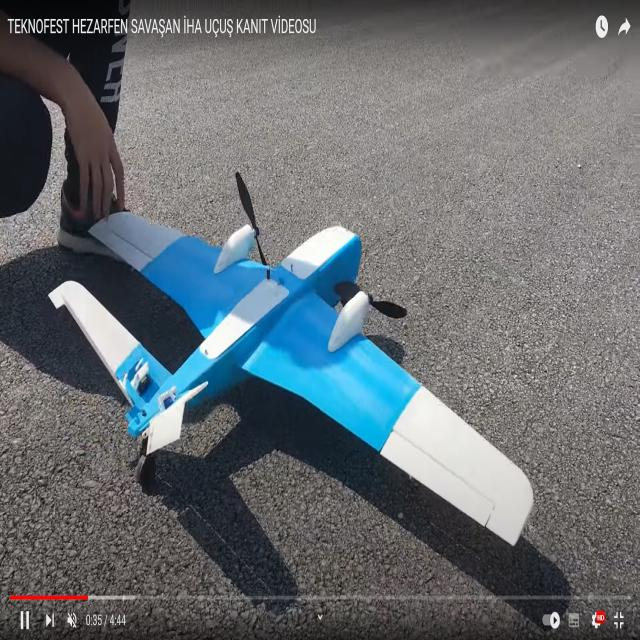iha: (48, 218, 536, 551)
